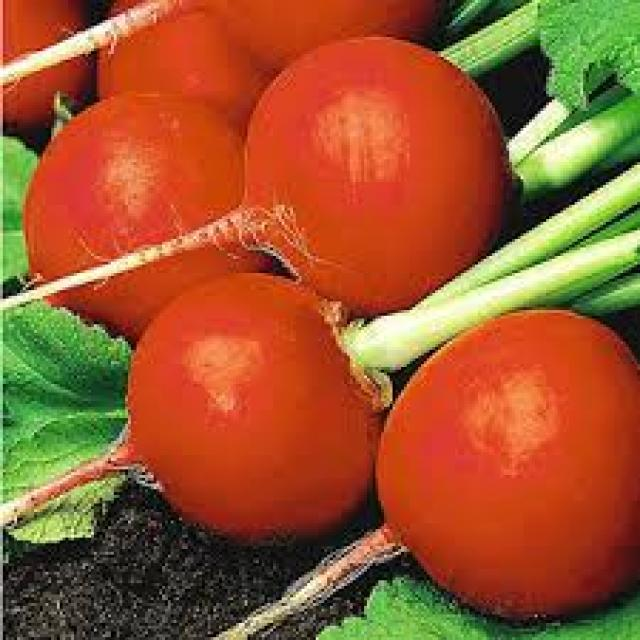organic waste: (0, 34, 506, 318), (0, 264, 387, 538), (370, 307, 637, 617), (341, 157, 637, 356), (20, 85, 270, 318), (0, 0, 441, 88), (0, 296, 131, 538), (91, 0, 278, 139), (506, 68, 637, 191), (0, 0, 91, 125), (529, 0, 637, 94), (435, 0, 574, 65), (3, 134, 43, 278)
